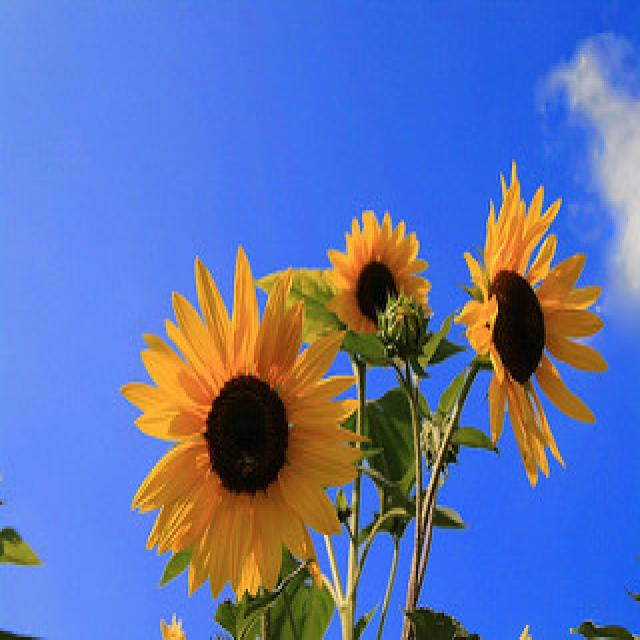sunflower: (117, 236, 375, 605), (455, 153, 613, 493), (320, 209, 434, 353)
